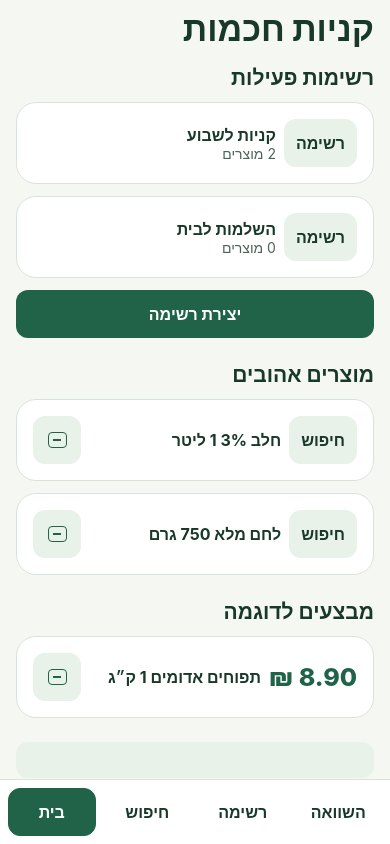
Test: ranks complete offers by price and places the cheaper partial offer after them
Click the tab "השוואה" at (338, 812), box [311,802,366,822]
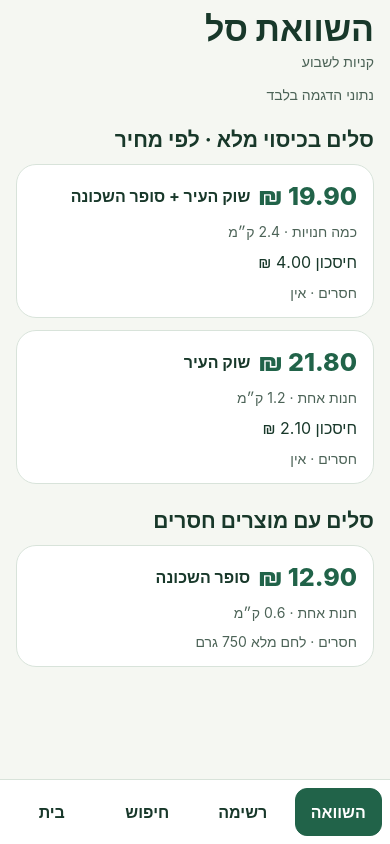
Result: the heading "סלים עם מוצרים חסרים" is shown at [153,508,374,533]
Click the tab "רשימה" at (243, 812), box [218,802,267,822]
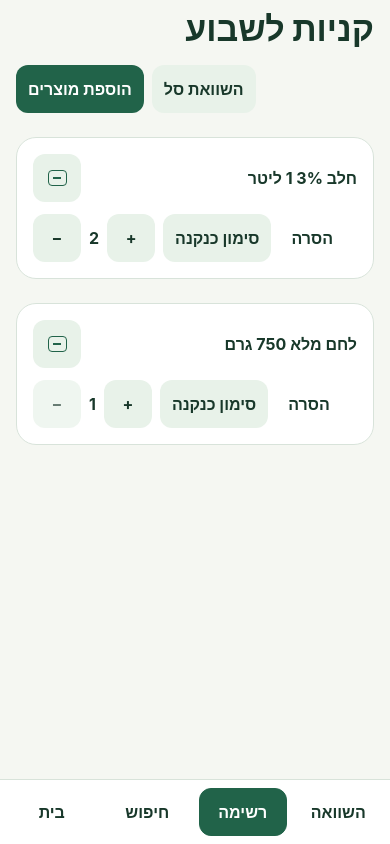
Click the button "+" below "חלב 3% 1 ליטר" at (131, 238), box [107,214,155,262]
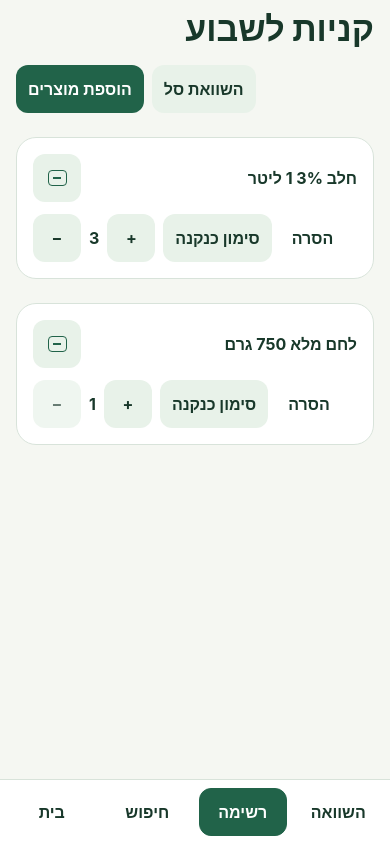
Click the button "השוואת סל" at (204, 89), box [152,65,256,113]
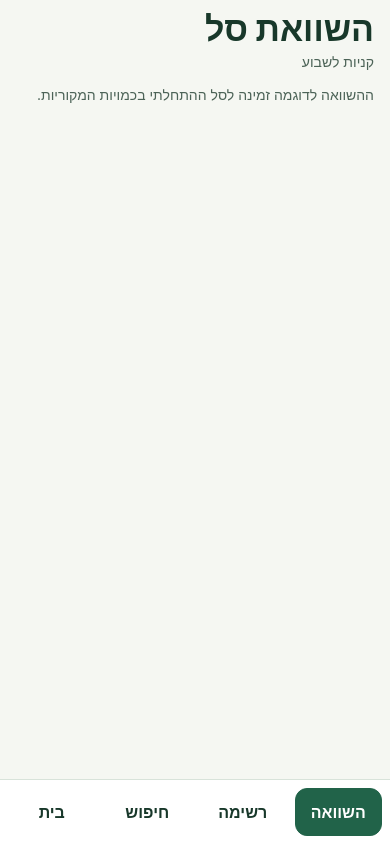
Expected: the text "שוק העיר" is not shown
Result: the text "ההשוואה לדוגמה זמינה לסל ההתחלתי בכמויות המקוריות." is shown at [16,86,374,103]
